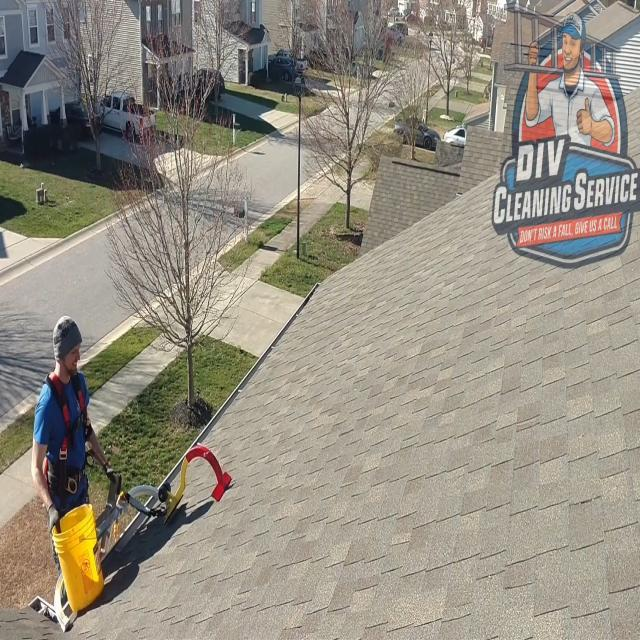belt: (40, 362, 93, 512)
